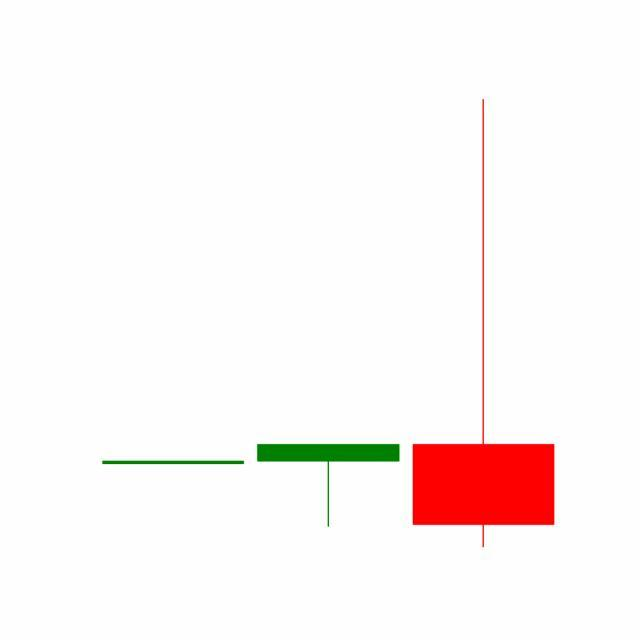Dragonfly Doji: (250, 444, 407, 530)
